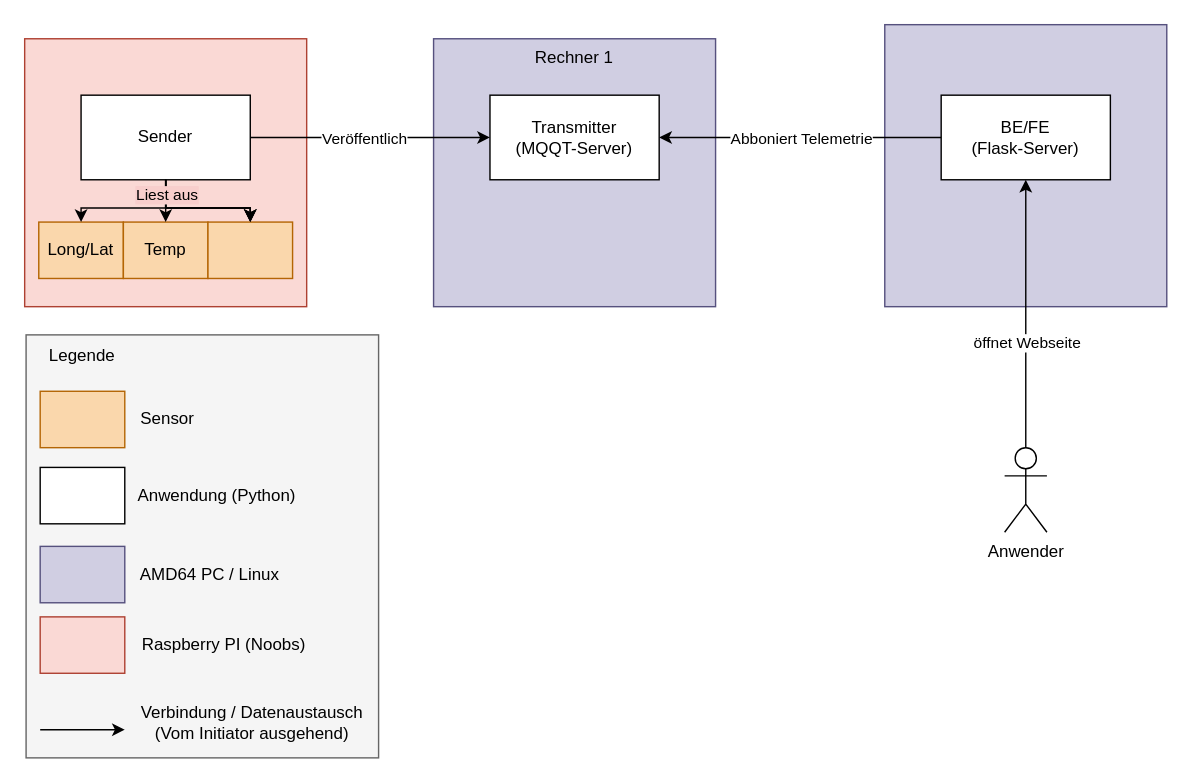
Image size: 1191x783. Some labels were removed from this diagram. Each missing label, with the box of its shape:
Humidity: (207, 221, 293, 278)
Raspberry PI: (23, 37, 307, 307)
Rechner 2: (883, 23, 1167, 307)
